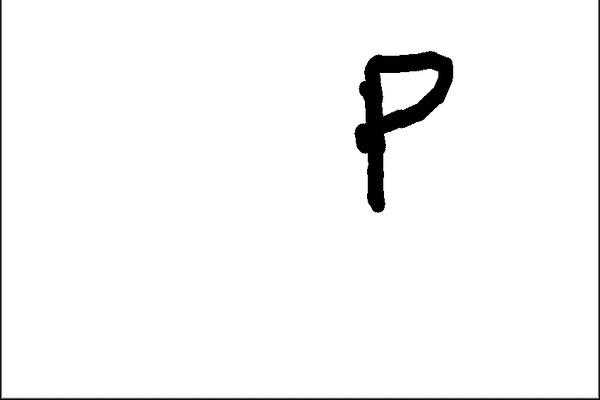P: (346, 40, 456, 215)
